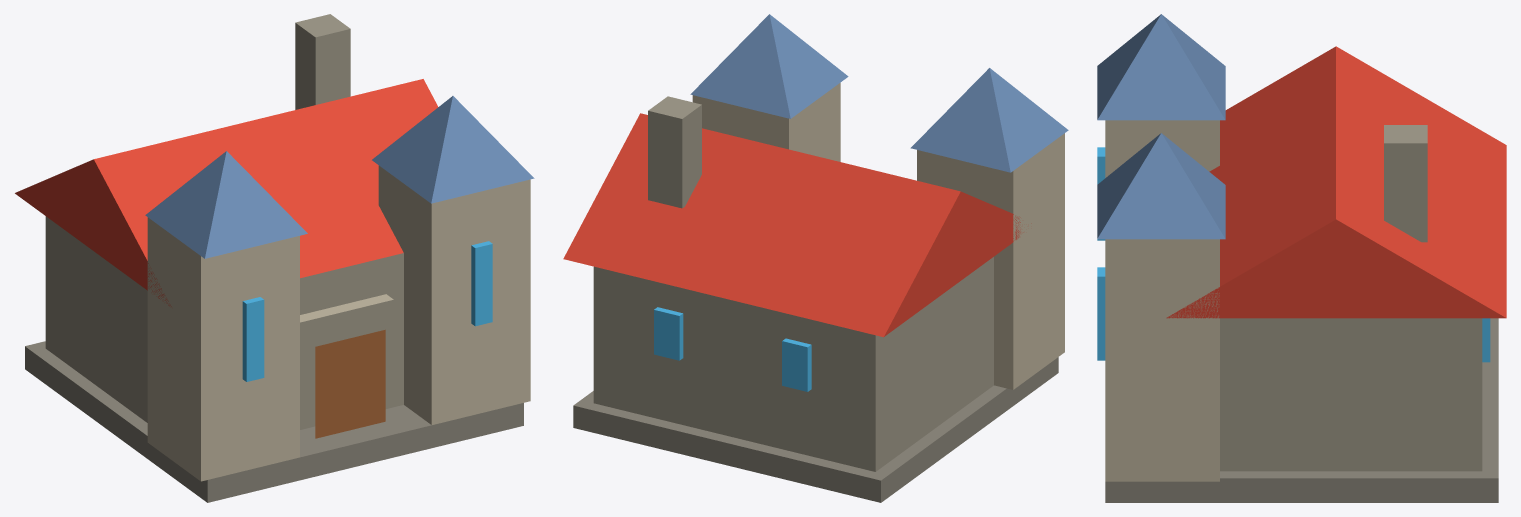
The model's file is house_t3_v3.glb.
3 views of the same model, side by side, from view 1: azimuth 30°, elevation 25°; view 2: azimuth 150°, elevation 25°; view 3: azimuth 270°, elevation 25° (orthographic). The views are drawn at different scales.
Parts seen in each view (by area): view 1: house_t3_v3; view 2: house_t3_v3; view 3: house_t3_v3.
Part boxes in pixels (x1,y1,x2,y2): house_t3_v3: [15, 14, 534, 502]; house_t3_v3: [563, 14, 1068, 502]; house_t3_v3: [1097, 14, 1506, 502].
Size of the model in its own units: 0.75 by 0.7 by 0.75.
Materials: 1 (1 with a texture image).
